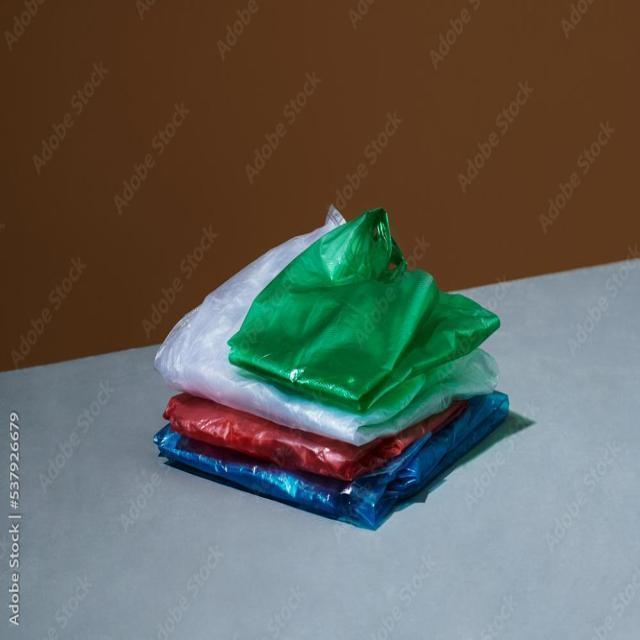Plastic_Bag: (230, 209, 492, 415)
